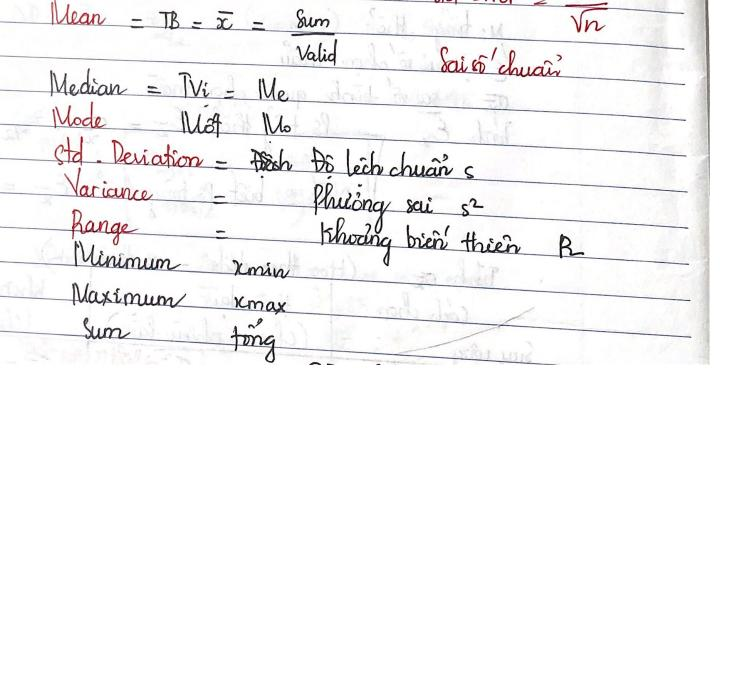text: (51, 134, 474, 184), (319, 215, 588, 269), (48, 63, 290, 108), (46, 0, 335, 35), (312, 179, 489, 234), (431, 41, 569, 85), (73, 237, 184, 277), (176, 103, 292, 136), (70, 280, 190, 311), (64, 166, 153, 205), (67, 207, 137, 248), (228, 317, 278, 364), (50, 103, 108, 134), (81, 314, 133, 343), (230, 293, 291, 317), (230, 258, 293, 280), (296, 39, 341, 65), (578, 12, 608, 41), (213, 229, 231, 243), (213, 192, 227, 206)
